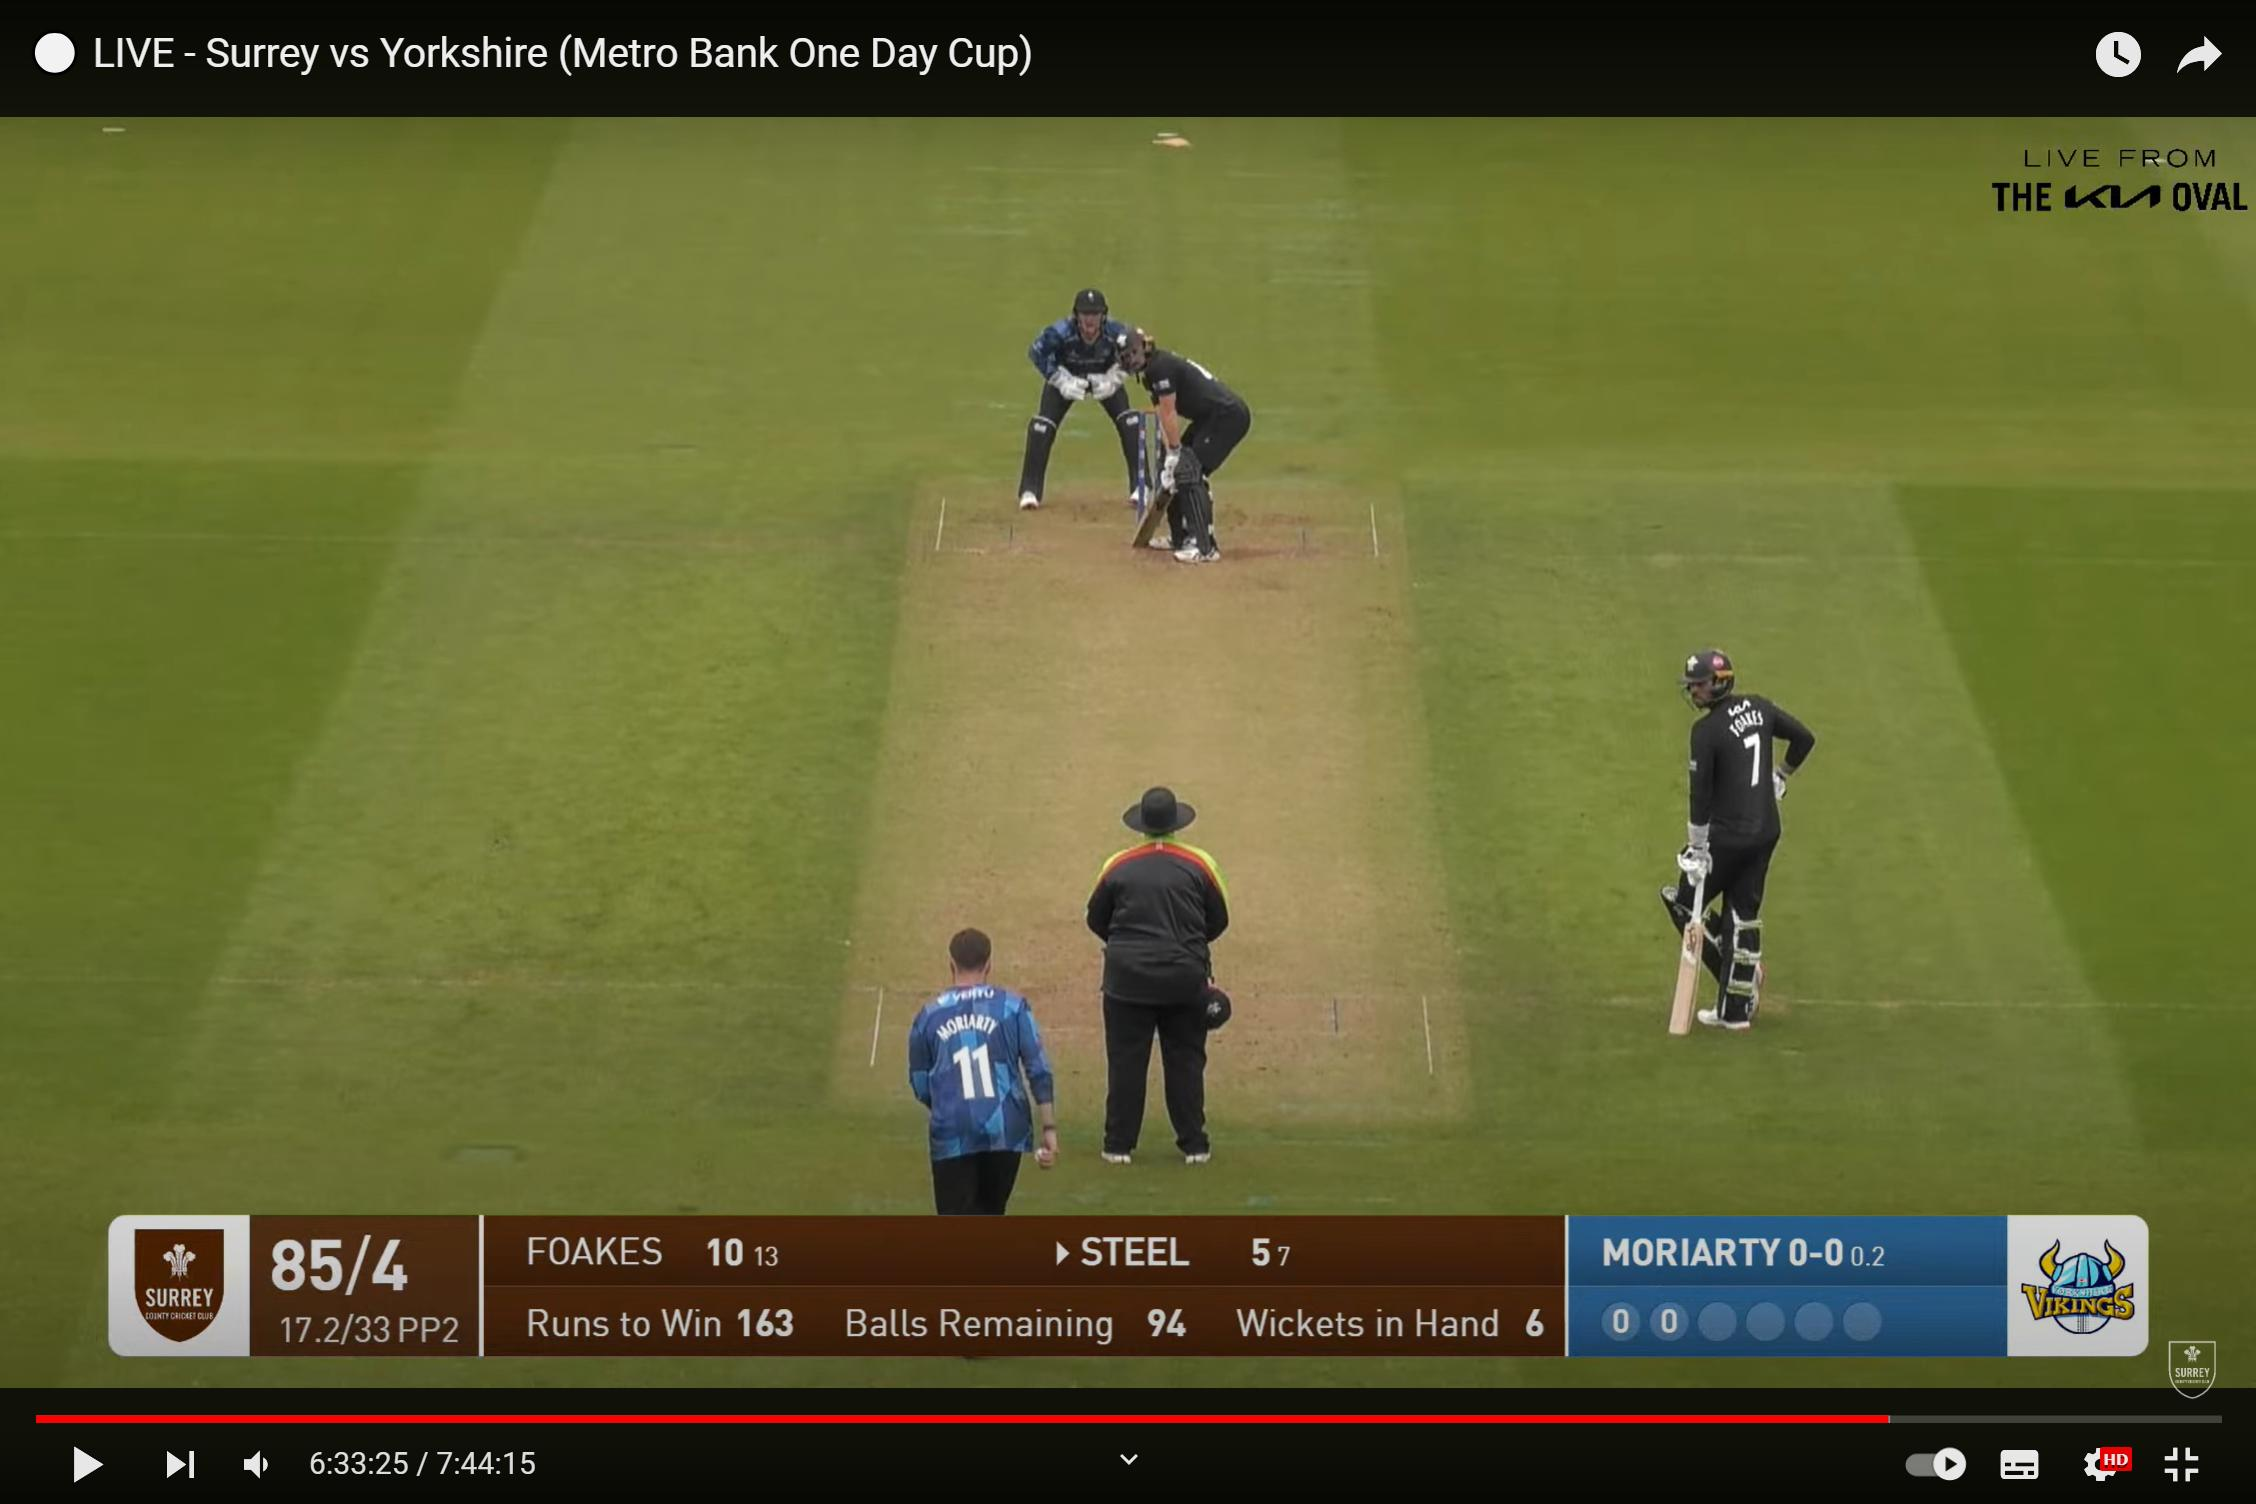batsman: (1098, 290, 1251, 566)
bowler running in: (848, 893, 1064, 1214)
non striker: (1616, 587, 1835, 1110)
umpire: (1088, 781, 1251, 1173)
